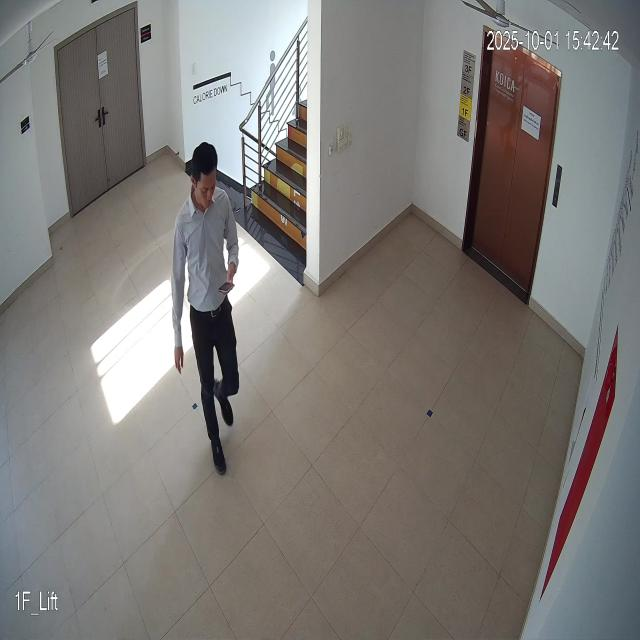face: (188, 140, 220, 218)
